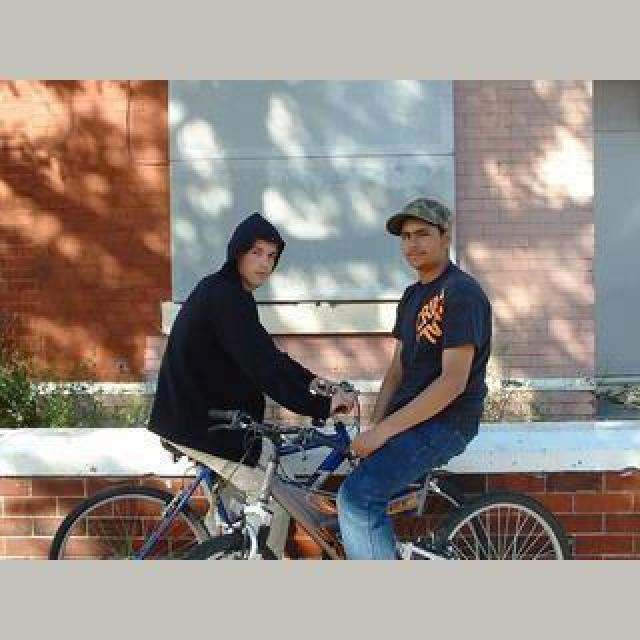MC-Bike: (148, 214, 358, 554), (340, 200, 494, 554)
Person: (103, 385, 569, 559)
